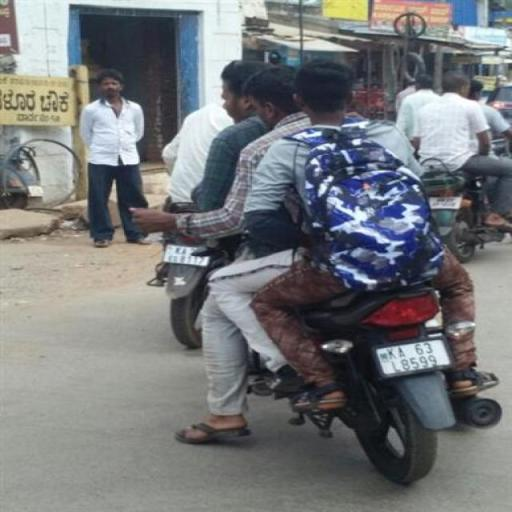tripple riding: (126, 53, 484, 341)
